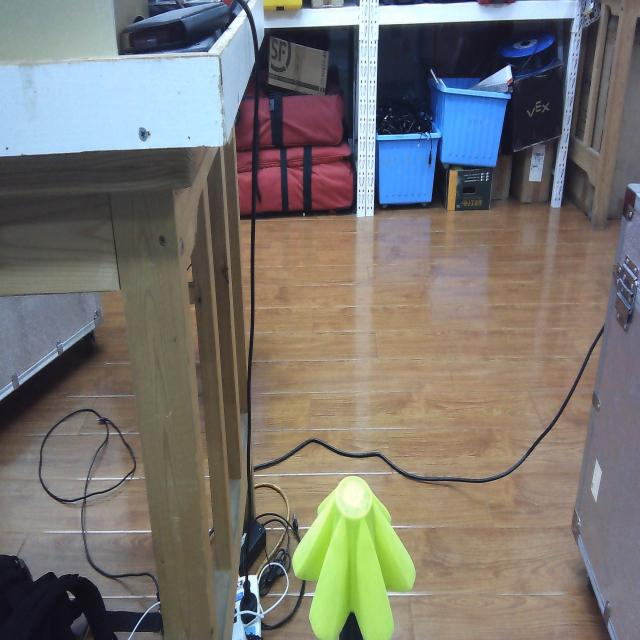Yellow-Stake-Head: (292, 473, 416, 640)
